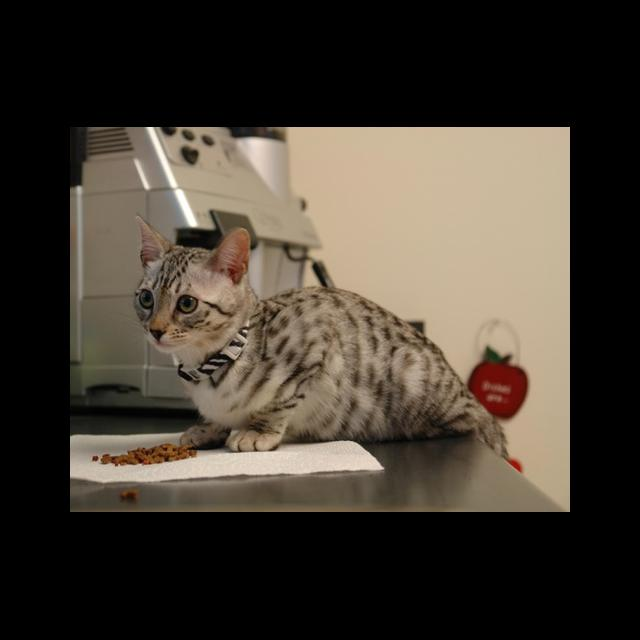animals: (137, 215, 242, 338)
